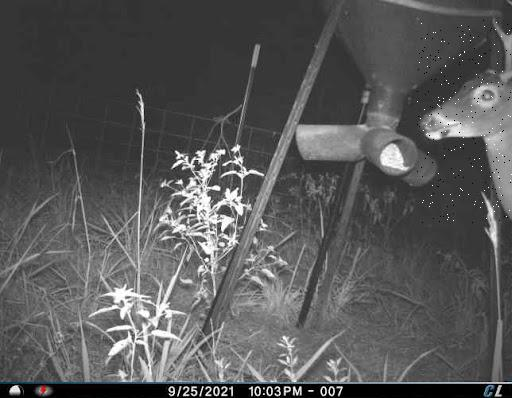Deer: (417, 20, 512, 223)
